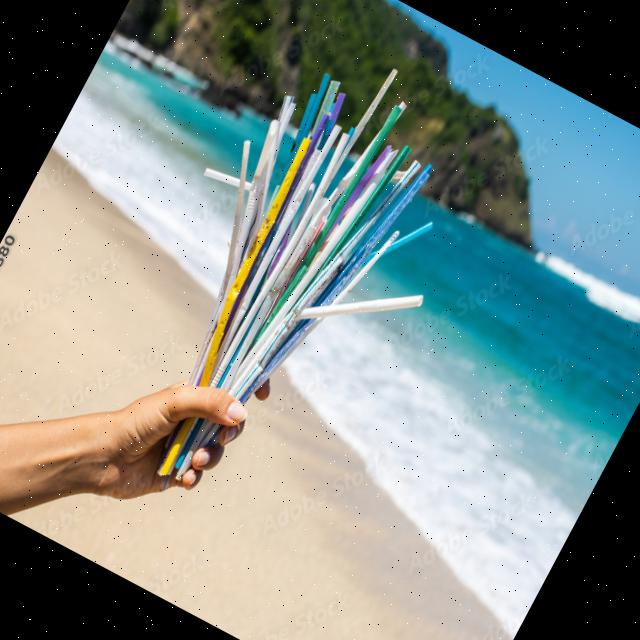plastic: (197, 122, 323, 340)
